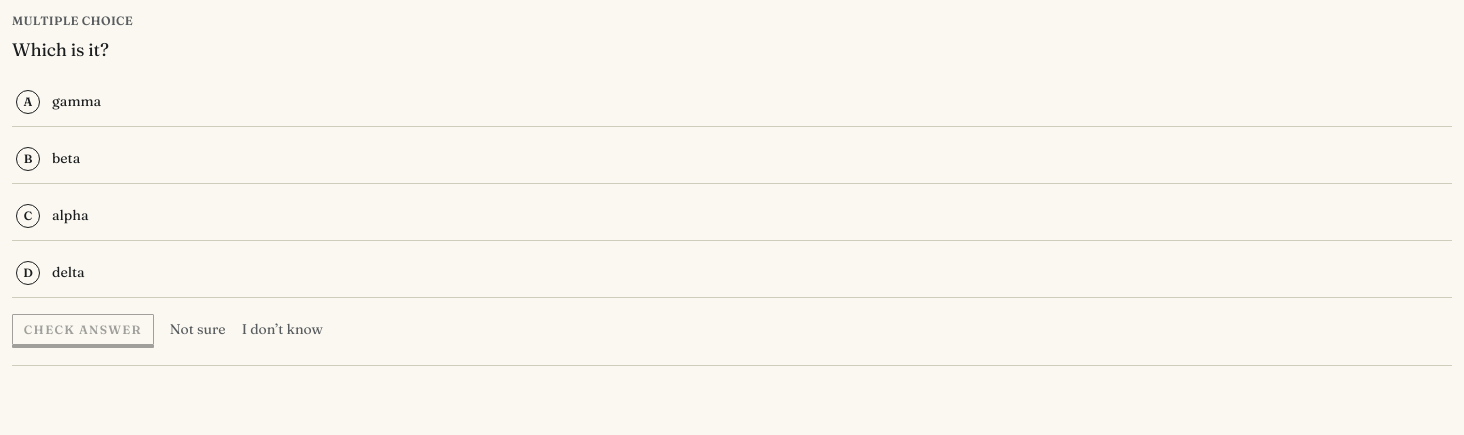
Test: McqCard › marks the right answer right and the wrong one wrong
Click the text "beta": click(66, 159) [52, 148, 80, 170]
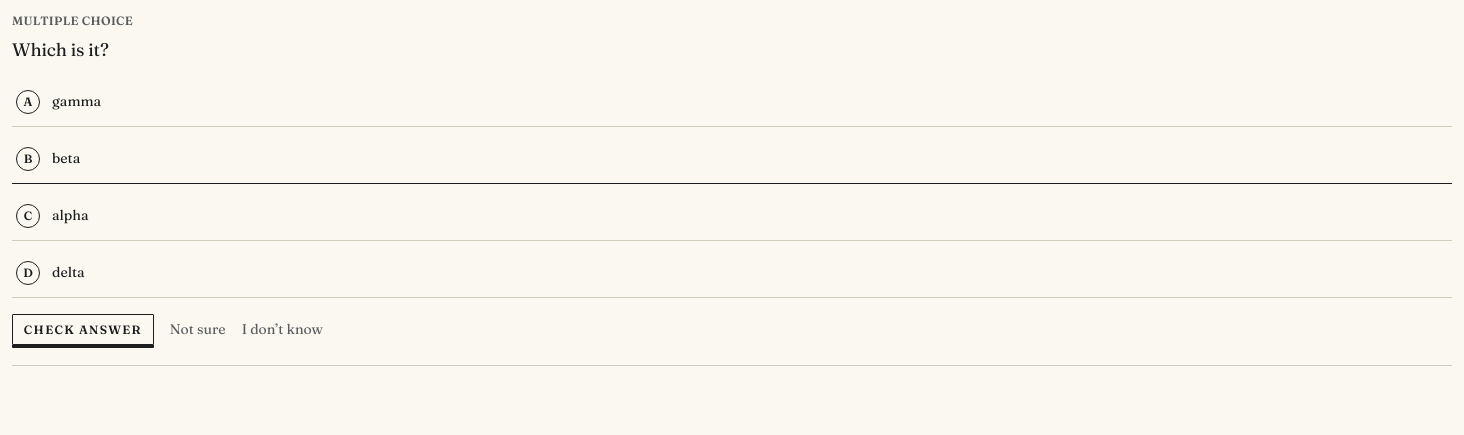
Click the button "Check answer": click(83, 330) [12, 314, 154, 346]
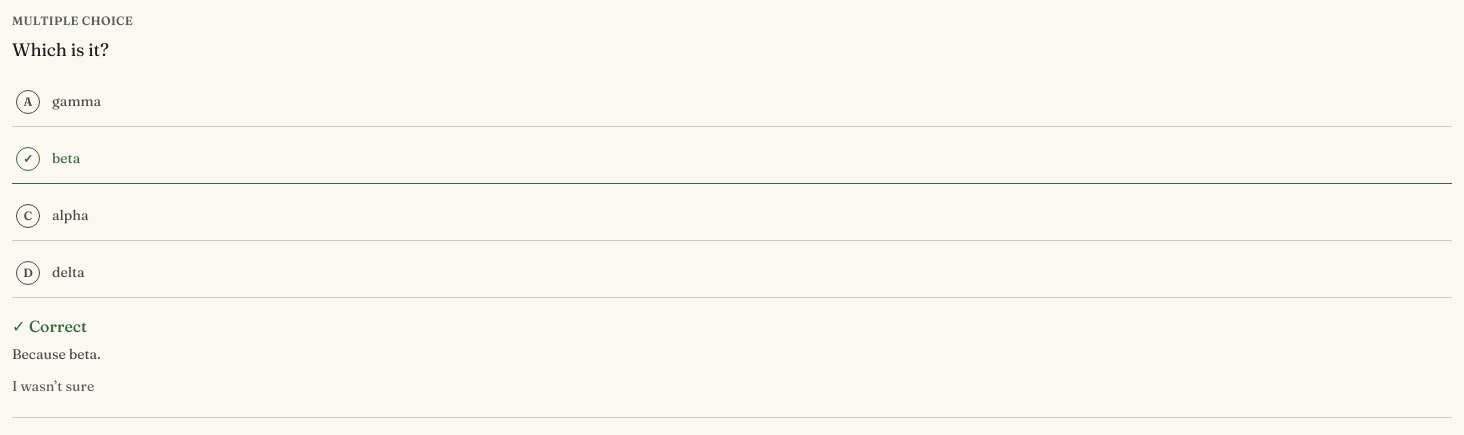
Expected: the radio button named ", the answer" shows "beta", [12, 135, 1452, 184]
Result: the text "✓ Correct" is shown at [12, 316, 87, 336]
